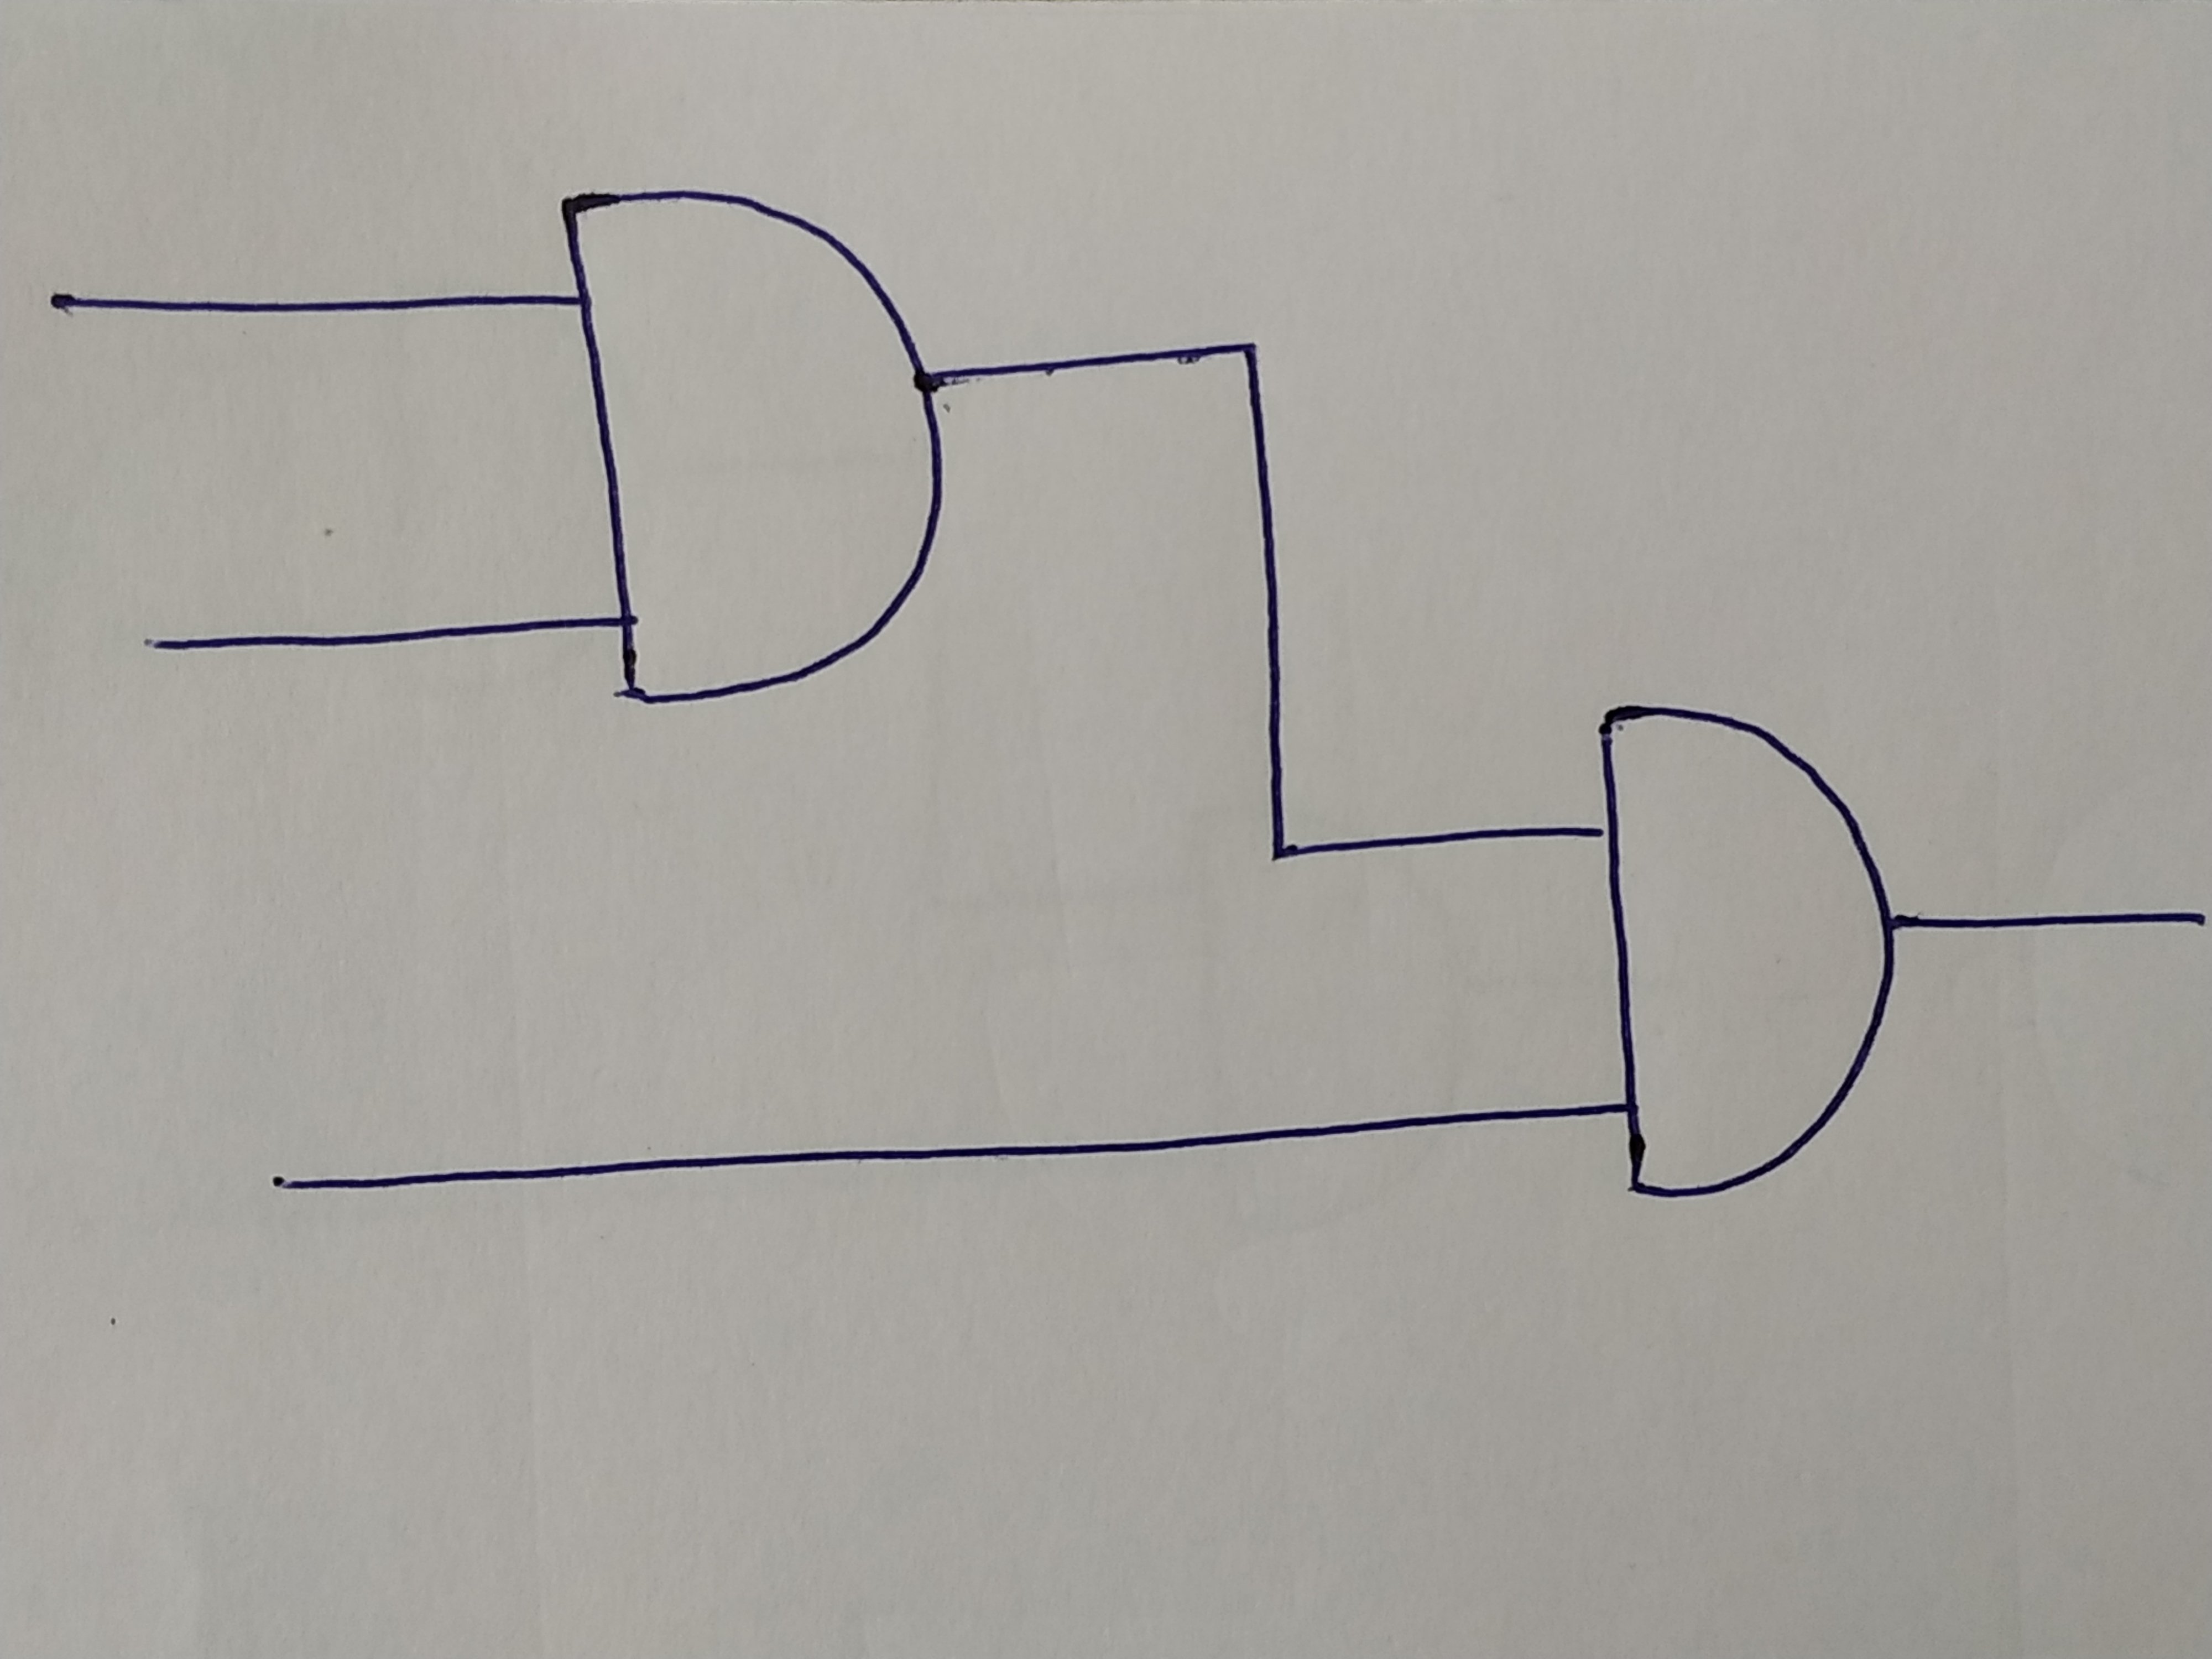and: (557, 186, 948, 706), (1597, 701, 1892, 1195)
